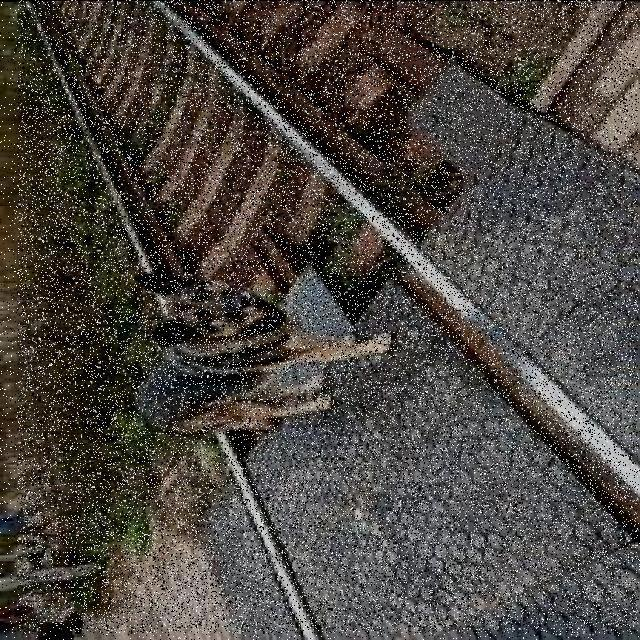danger: (125, 257, 386, 448)
rail: (18, 1, 638, 633)
